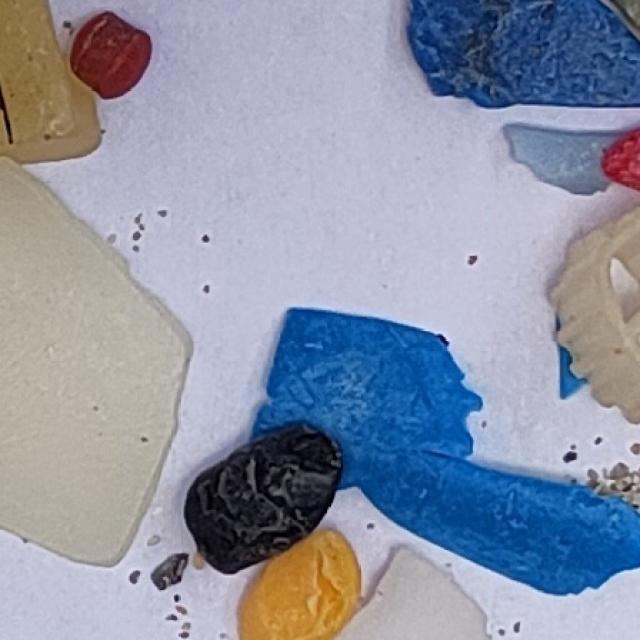beads: (55, 1, 162, 109)
fragments: (0, 158, 192, 568), (163, 402, 368, 593), (410, 1, 640, 108), (551, 209, 640, 424), (336, 549, 491, 639), (240, 531, 361, 639), (503, 122, 640, 197), (0, 0, 1, 1)
